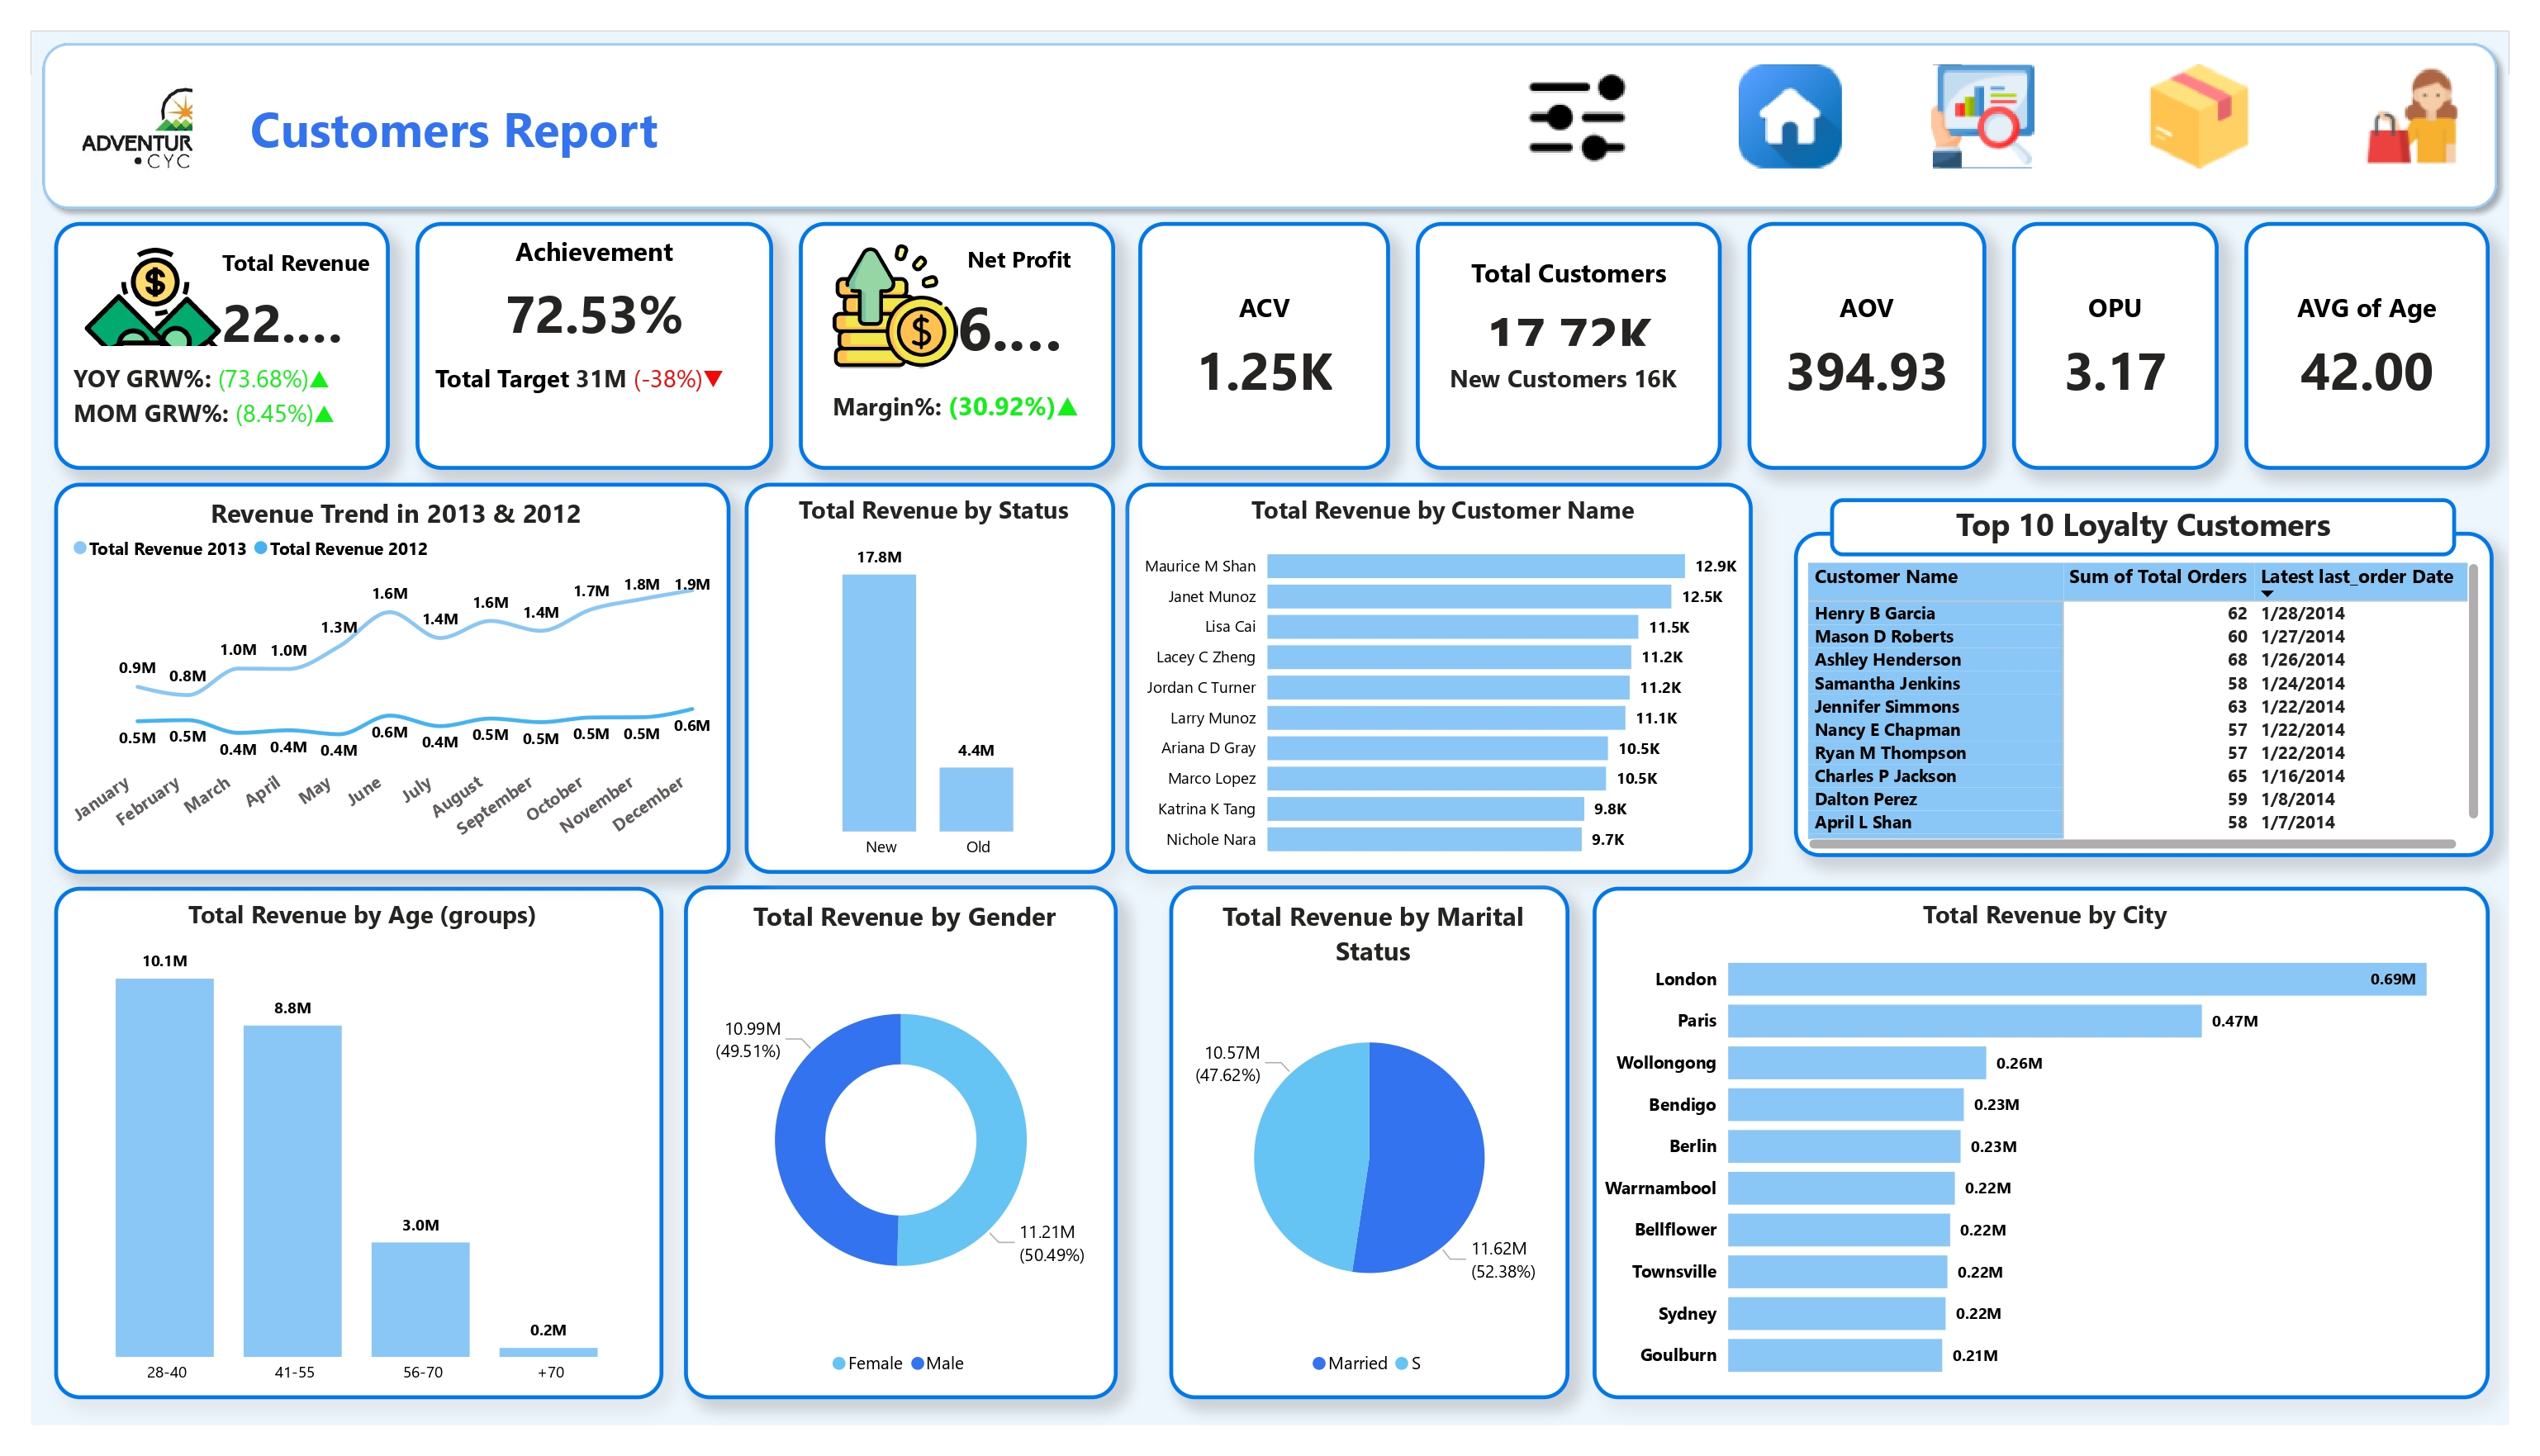

The page's visual inventory and layout, read from the dashboard file:
{"tool":"powerbi","page":{"name":"Customers","canvas":[1920,1080],"ordinal":3},"visuals":[{"type":"shape","box":[0,0,1920,146.7],"z":0},{"type":"group","id":"g1","title":"Group 2","box":[1366,362,542,278],"z":0,"group":"g4"},{"type":"group","id":"g2","title":"Group 1","box":[1366,362,542,278],"z":0,"group":"g3"},{"type":"group","id":"g3","title":"TOP 5Producty by Revenue","box":[1366,362,542,278],"z":0,"group":"g1"},{"type":"shape","box":[1366,388.5,542,251.5],"z":0,"group":"g2"},{"type":"image","box":[30,35,105,90],"z":1000},{"type":"textbox","box":[1393.5,362,485.9,44.6],"z":1000,"group":"g2"},{"type":"pivotTable","fields":{"Rows":["Dim_Customers.Full Name"],"Values":["Sum(Dim_Customers.Total Orders)","Max(Dim_Customers.last_order Date)"]},"box":[1377.3,411.7,519.3,223.2],"z":1000,"group":"g4"},{"type":"textbox","box":[165,50,335,55],"z":2000},{"type":"cardVisual","fields":{"Data":["My Measures.Total Customer"]},"box":[1072.5,147.5,237.5,192.5],"z":3000},{"type":"donutChart","fields":{"Category":["Dim_Customers.Gender"],"Y":["My Measures.Total Revenue"]},"box":[506,662,336,398],"z":4000},{"type":"pieChart","fields":{"Category":["Dim_Customers.MaritalStatus"],"Y":["My Measures.Total Revenue"]},"box":[882,662,310,398],"z":5000},{"type":"clusteredColumnChart","fields":{"Category":["Dim_Customers.Age (groups)"],"Y":["My Measures.Total Revenue"]},"box":[17.5,662.5,472.5,397.5],"z":6000},{"type":"cardVisual","fields":{"Data":["My Measures.Net Profit"]},"box":[595,147.5,245,192.5],"z":7000},{"type":"cardVisual","fields":{"Data":["My Measures.AOV"]},"box":[1330,147.5,185,192.5],"z":8000},{"type":"cardVisual","fields":{"Data":["My Measures.OPU"]},"box":[1535,147.5,160,192.5],"z":9000},{"type":"cardVisual","fields":{"Data":["My Measures.AVG of Age"]},"box":[1715,147.5,190,192.5],"z":10000},{"type":"cardVisual","fields":{"Data":["My Measures.ACV"]},"box":[857.5,147.5,195,192.5],"z":11000},{"type":"clusteredBarChart","fields":{"Category":["Dim_Customers.Name"],"Y":["My Measures.Total Revenue"]},"box":[847.5,349.6,486.9,303.9],"z":12000},{"type":"group","id":"g4","title":"Loylaty","box":[1366,362,542,278],"z":13000},{"type":"cardVisual","fields":{"Data":["My Measures.Total Revenue"]},"box":[18,148,260,192],"z":14000},{"type":"cardVisual","fields":{"Data":["My Measures.Achievement%"]},"box":[297.5,147.5,277.5,192.5],"z":15000},{"type":"clusteredColumnChart","fields":{"Category":["Dim_Customers.Status"],"Y":["My Measures.Total Revenue"]},"box":[552.8,349.6,287.4,303.9],"z":16000},{"type":"clusteredBarChart","fields":{"Category":["Dim_Customers.City"],"Y":["My Measures.Total Revenue"]},"box":[1210,662.5,695,397.5],"z":17000},{"type":"actionButton","box":[1452.8,17.5,117.5,95],"z":19000},{"type":"actionButton","box":[1607,17.5,145,95],"z":20000},{"type":"actionButton","box":[1122.5,17.5,150,97.5],"z":21000},{"type":"actionButton","box":[1788.8,12.5,112.5,105],"z":22000},{"type":"actionButton","box":[1308.6,17.5,107.5,95],"z":23000},{"type":"lineChart","title":"Revenue Trend in 2013 & 2012","fields":{"Category":["Dim_Date.FullDateAlternateKey.Variation.Date Hierarchy.Year","Dim_Date.FullDateAlternateKey.Variation.Date Hierarchy.Quarter","Dim_Date.FullDateAlternateKey.Variation.Date Hierarchy.Month"],"Y":["My Measures.Total Revenue 2013","My Measures.Total Revenue 2012"]},"box":[18.3,349.6,523.5,303.9],"z":24000}]}

Visuals, with their boxes on the page's 1920x1080 design canvas (x1, y1, x2, y2). These are canvas units, not pixel positions in the 2540x1456 screenshot, which may show the page scaled, cropped or inside an application window:
shape: 0/0/1920/147
"Group 2" group: 1366/362/1908/640
"Group 1" group: 1366/362/1908/640
"TOP 5Producty by Revenue" group: 1366/362/1908/640
shape: 1366/388/1908/640
image: 30/35/135/125
textbox: 1394/362/1879/407
pivotTable - Dim_Customers.Full Name x Sum(Dim_Customers.Total Orders): 1377/412/1897/635
textbox: 165/50/500/105
cardVisual - My Measures.Total Customer: 1072/148/1310/340
donutChart - Dim_Customers.Gender x My Measures.Total Revenue: 506/662/842/1060
pieChart - Dim_Customers.MaritalStatus x My Measures.Total Revenue: 882/662/1192/1060
clusteredColumnChart - Dim_Customers.Age (groups) x My Measures.Total Revenue: 18/662/490/1060
cardVisual - My Measures.Net Profit: 595/148/840/340
cardVisual - My Measures.AOV: 1330/148/1515/340
cardVisual - My Measures.OPU: 1535/148/1695/340
cardVisual - My Measures.AVG of Age: 1715/148/1905/340
cardVisual - My Measures.ACV: 858/148/1052/340
clusteredBarChart - Dim_Customers.Name x My Measures.Total Revenue: 848/350/1334/654
"Loylaty" group: 1366/362/1908/640
cardVisual - My Measures.Total Revenue: 18/148/278/340
cardVisual - My Measures.Achievement%: 298/148/575/340
clusteredColumnChart - Dim_Customers.Status x My Measures.Total Revenue: 553/350/840/654
clusteredBarChart - Dim_Customers.City x My Measures.Total Revenue: 1210/662/1905/1060
actionButton: 1453/18/1570/112
actionButton: 1607/18/1752/112
actionButton: 1122/18/1272/115
actionButton: 1789/12/1901/118
actionButton: 1309/18/1416/112
"Revenue Trend in 2013 & 2012" lineChart: 18/350/542/654
